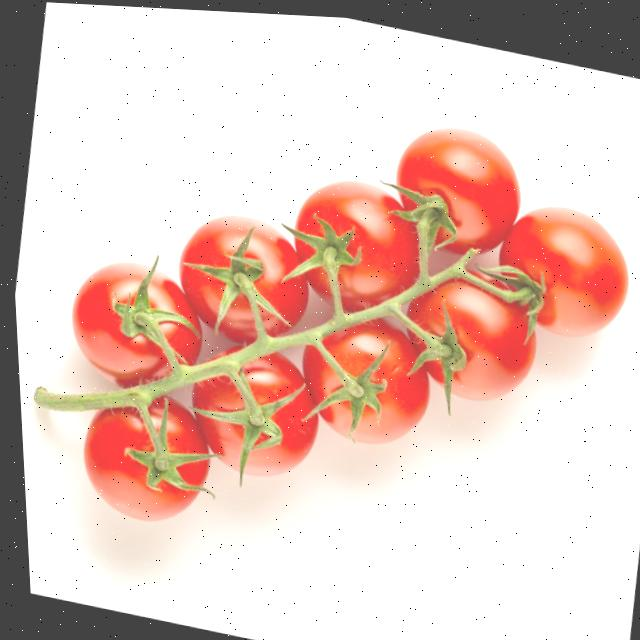ripe2: (493, 195, 636, 350), (77, 380, 215, 534), (172, 203, 315, 348), (297, 312, 436, 454), (288, 169, 424, 314), (67, 250, 201, 392), (393, 115, 525, 258), (410, 270, 541, 414), (191, 346, 325, 486)
